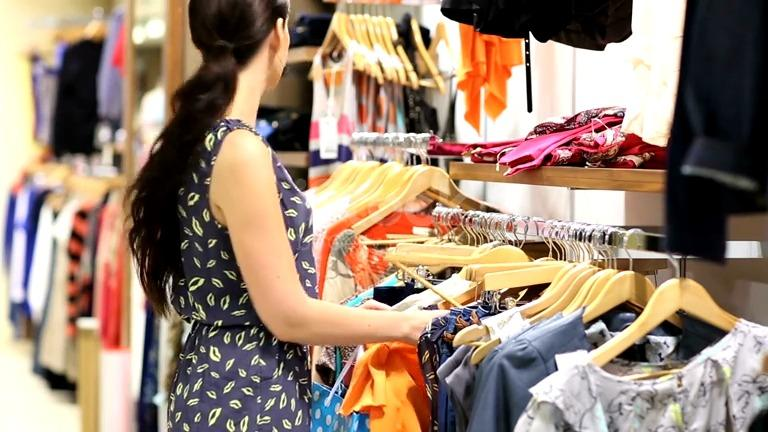Shoplifting: (116, 2, 465, 432)
